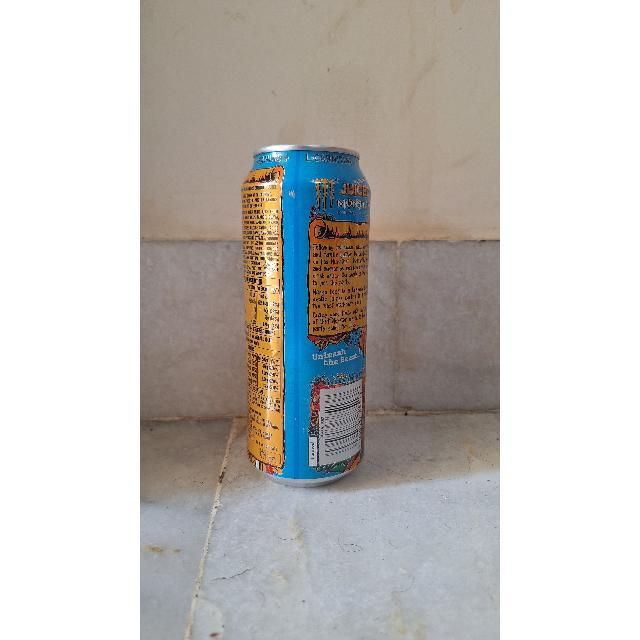Monster Mango Loco: (224, 131, 376, 491)
